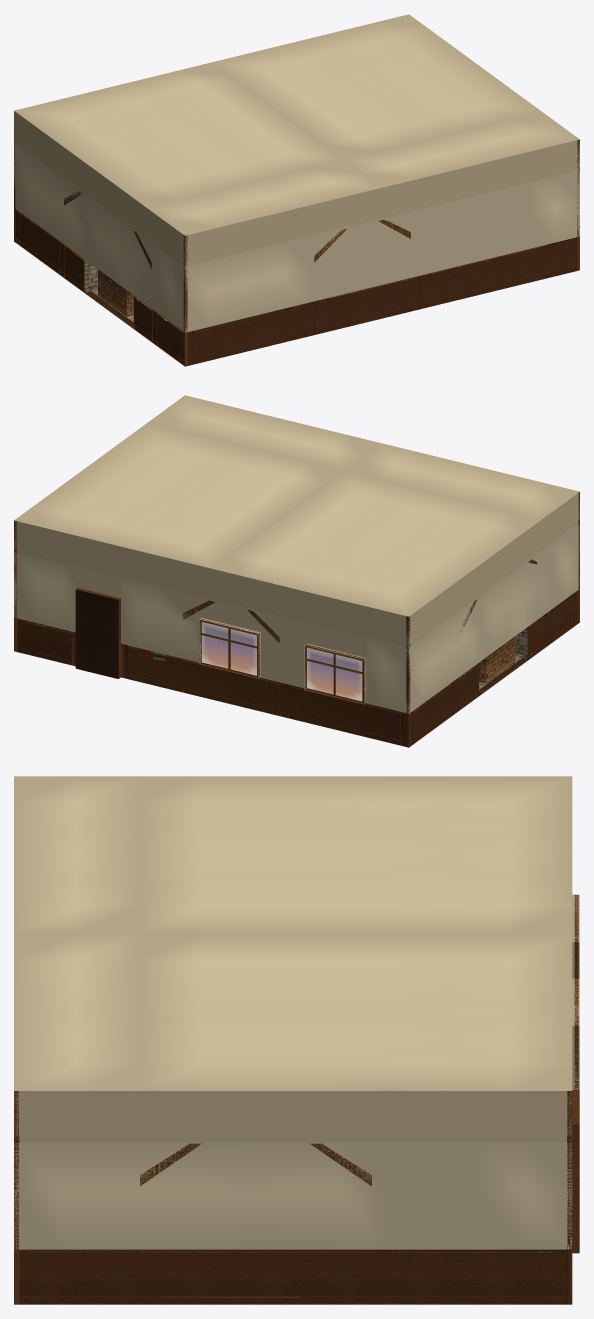
File: hm_broom_int_01_webp.glb
The picture shows the model from 3 angles, top to bottom: view 1: azimuth 30°, elevation 25°; view 2: azimuth 150°, elevation 25°; view 3: azimuth 270°, elevation 25°; orthographic projection. The views are drawn at different scales.
Visible parts, largest first — view 1: Broom_Interior; view 2: Broom_Interior; view 3: Broom_Interior.
Part boxes in pixels (<box>): Broom_Interior: <box>14,14,579,366</box>; Broom_Interior: <box>14,395,579,747</box>; Broom_Interior: <box>14,776,579,1304</box>.
Bounding box in the file's own units: 12 × 3.8 × 9.12.
Materials: 7 (3 with a texture image).
